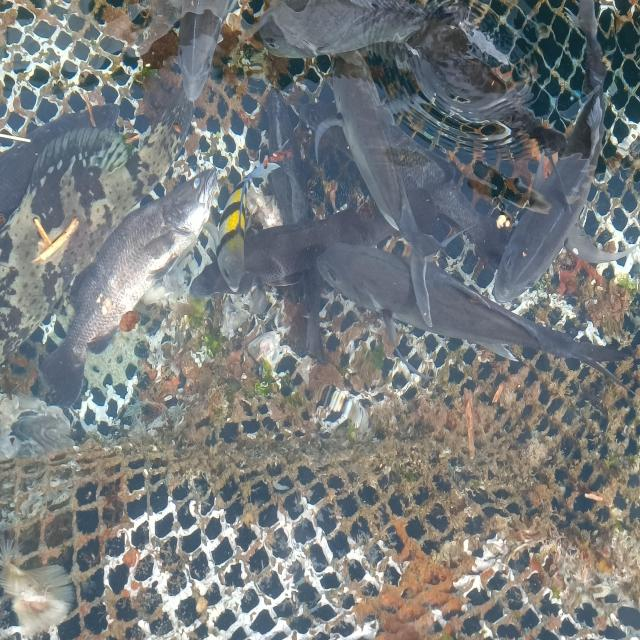ikan: (314, 236, 635, 398), (301, 49, 466, 329), (36, 164, 222, 410), (489, 0, 637, 304), (188, 153, 282, 299)
